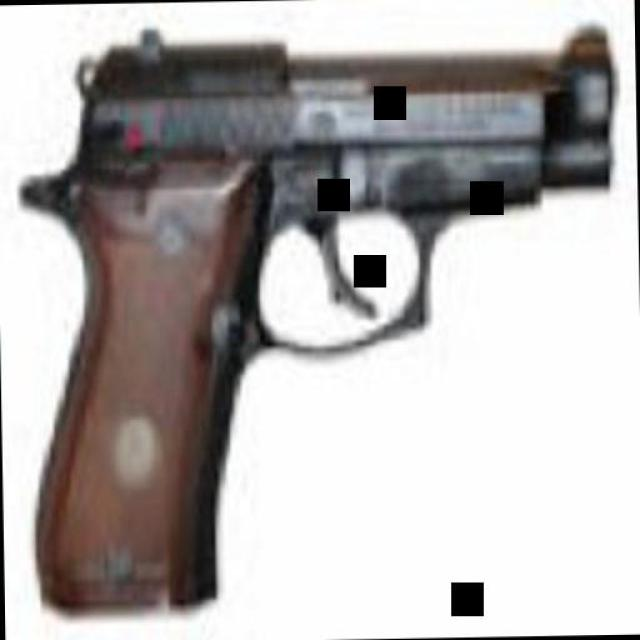gun: (5, 4, 619, 621)
